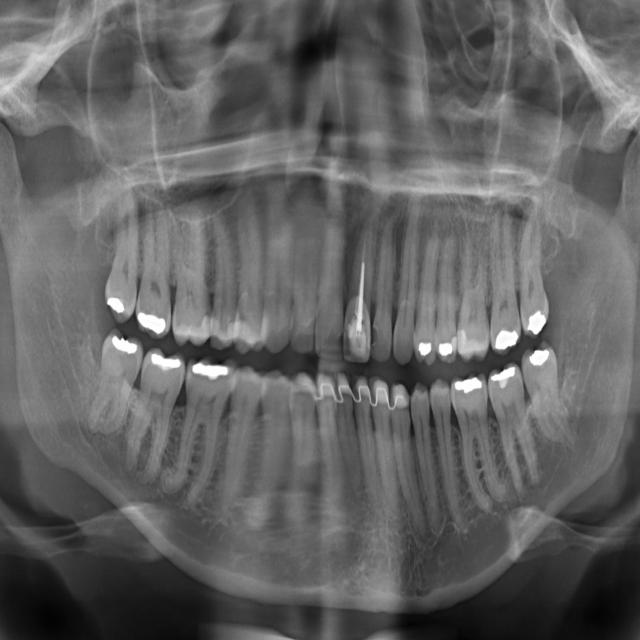AmalgamRestoration: (492, 362, 521, 403), (452, 378, 490, 403), (147, 351, 183, 376), (192, 359, 230, 382), (108, 334, 140, 359), (494, 325, 520, 354), (528, 344, 552, 374), (527, 306, 548, 340), (135, 311, 167, 331), (437, 336, 459, 362), (104, 294, 125, 316), (417, 338, 435, 358)
CompositeResinRestoration: (344, 327, 370, 362), (459, 331, 475, 369), (199, 314, 212, 349), (231, 315, 242, 351)
DentalCaries: (372, 276, 387, 354), (232, 298, 252, 338), (196, 298, 213, 335)
RootCanalTreatment: (349, 185, 373, 325)
